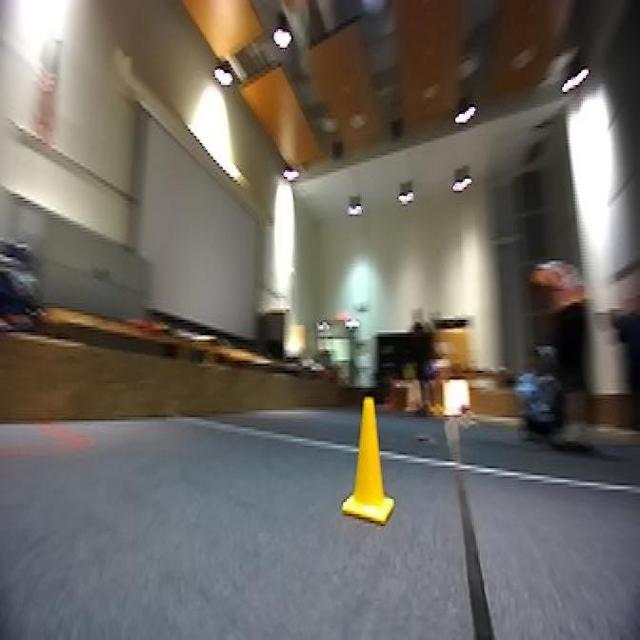frc_cone: (343, 393, 394, 526)
